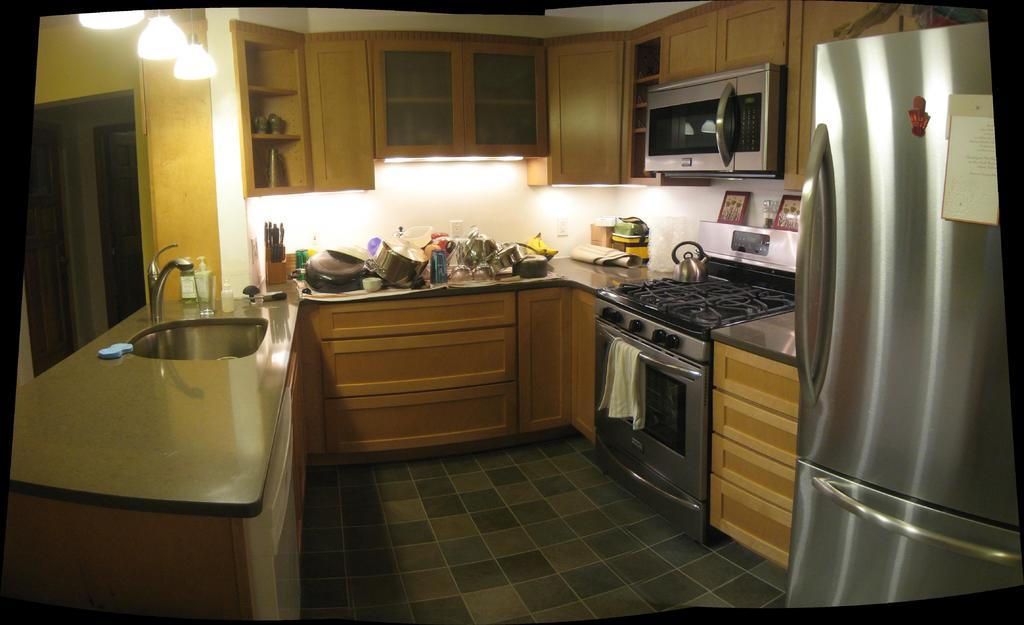cabinet_door: (367, 33, 456, 155), (459, 41, 552, 152), (302, 42, 368, 194), (322, 391, 518, 440), (553, 47, 621, 180), (324, 340, 514, 386), (518, 296, 572, 423), (322, 304, 516, 328), (717, 440, 792, 499), (722, 492, 788, 555), (720, 12, 798, 64), (724, 398, 801, 448), (718, 354, 792, 399), (664, 25, 730, 68)
handle: (814, 476, 1024, 565), (794, 130, 840, 400), (598, 328, 708, 392), (710, 84, 740, 164)
